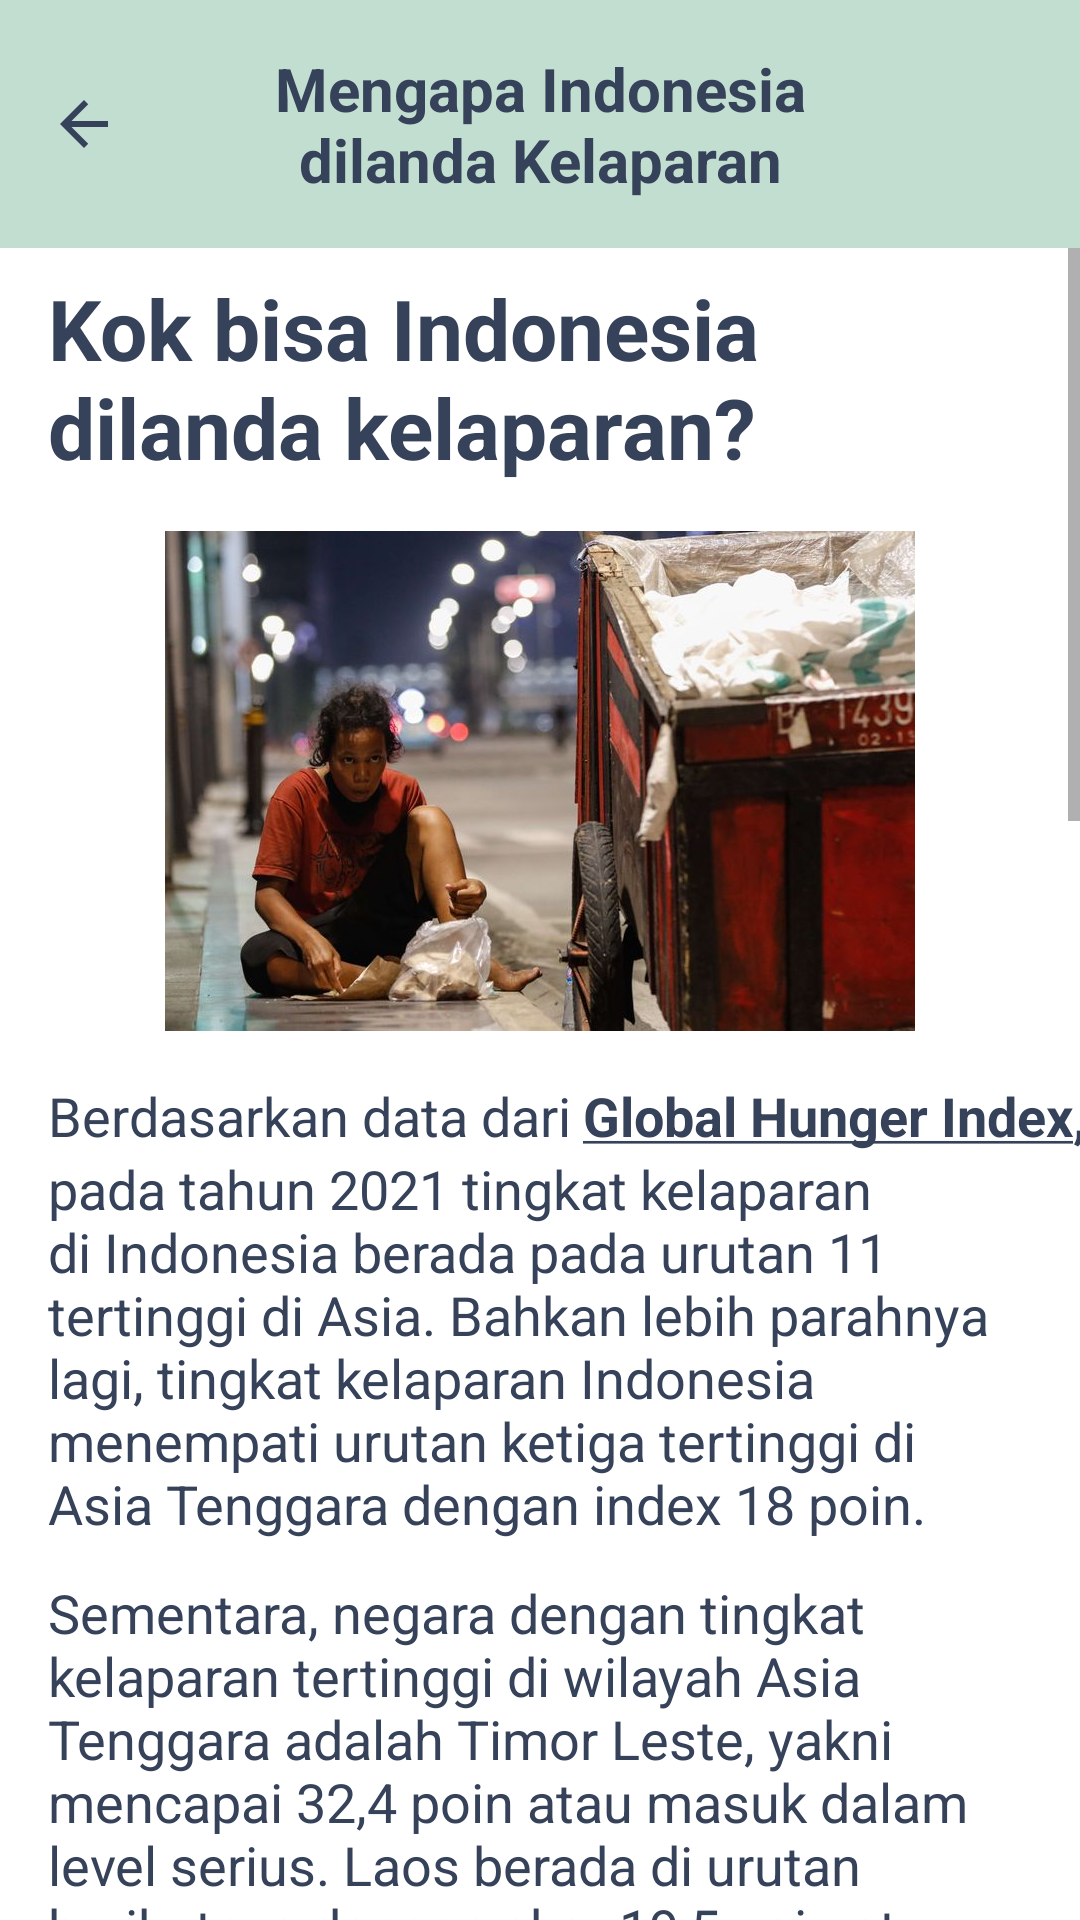

Where icons sit on this 1080 x 1920 app screen, as (x1, y1, x2, y2):
arrow back: (60, 100, 108, 148)
